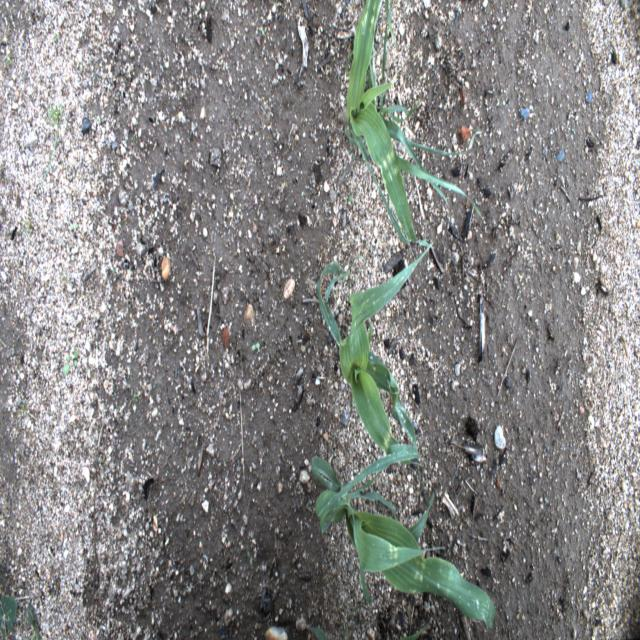crop: (340, 0, 485, 254), (310, 451, 498, 629), (318, 252, 435, 470), (404, 614, 433, 638), (306, 622, 339, 638)
weed: (41, 103, 64, 181), (22, 598, 46, 636), (59, 344, 83, 379), (2, 592, 19, 637), (10, 394, 29, 426), (246, 330, 265, 358), (19, 216, 36, 245), (45, 28, 67, 50), (341, 185, 357, 214), (256, 16, 269, 51), (2, 46, 16, 74), (128, 384, 142, 407), (245, 547, 256, 571), (68, 220, 81, 237), (98, 109, 106, 132)
